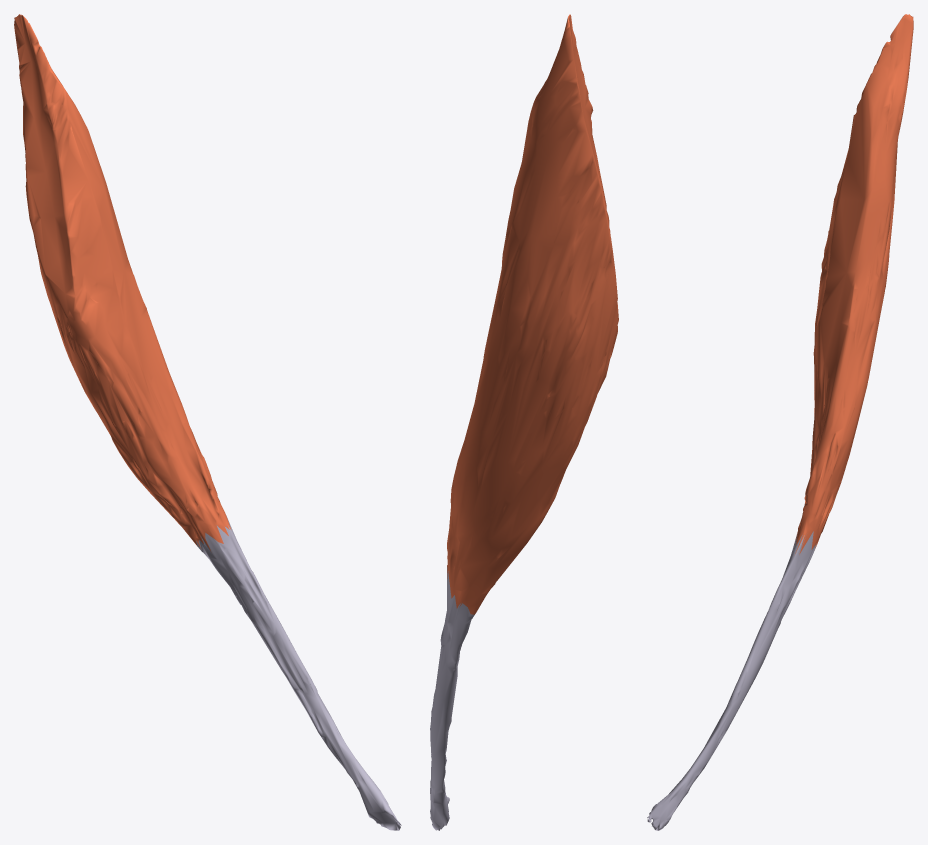
File: Adductor_pollicis_longus.l_Generated_Mesh_From_X3D.1009.glb
3 views of the same model, side by side, from view 1: azimuth 30°, elevation 25°; view 2: azimuth 150°, elevation 25°; view 3: azimuth 270°, elevation 25° (orthographic). The views are drawn at different scales.
Visible parts, largest first — view 1: Adductor_pollicis_longus.l_Generated_Mesh_From_X3D.1009; view 2: Adductor_pollicis_longus.l_Generated_Mesh_From_X3D.1009; view 3: Adductor_pollicis_longus.l_Generated_Mesh_From_X3D.1009.
Boxes of the visible parts, x1,y1,x2,y2 form: Adductor_pollicis_longus.l_Generated_Mesh_From_X3D.1009: (14,14,401,830); Adductor_pollicis_longus.l_Generated_Mesh_From_X3D.1009: (430,14,618,830); Adductor_pollicis_longus.l_Generated_Mesh_From_X3D.1009: (647,14,913,830).
Size of the model in its own units: 0.0641 by 0.1879 by 0.0638.
